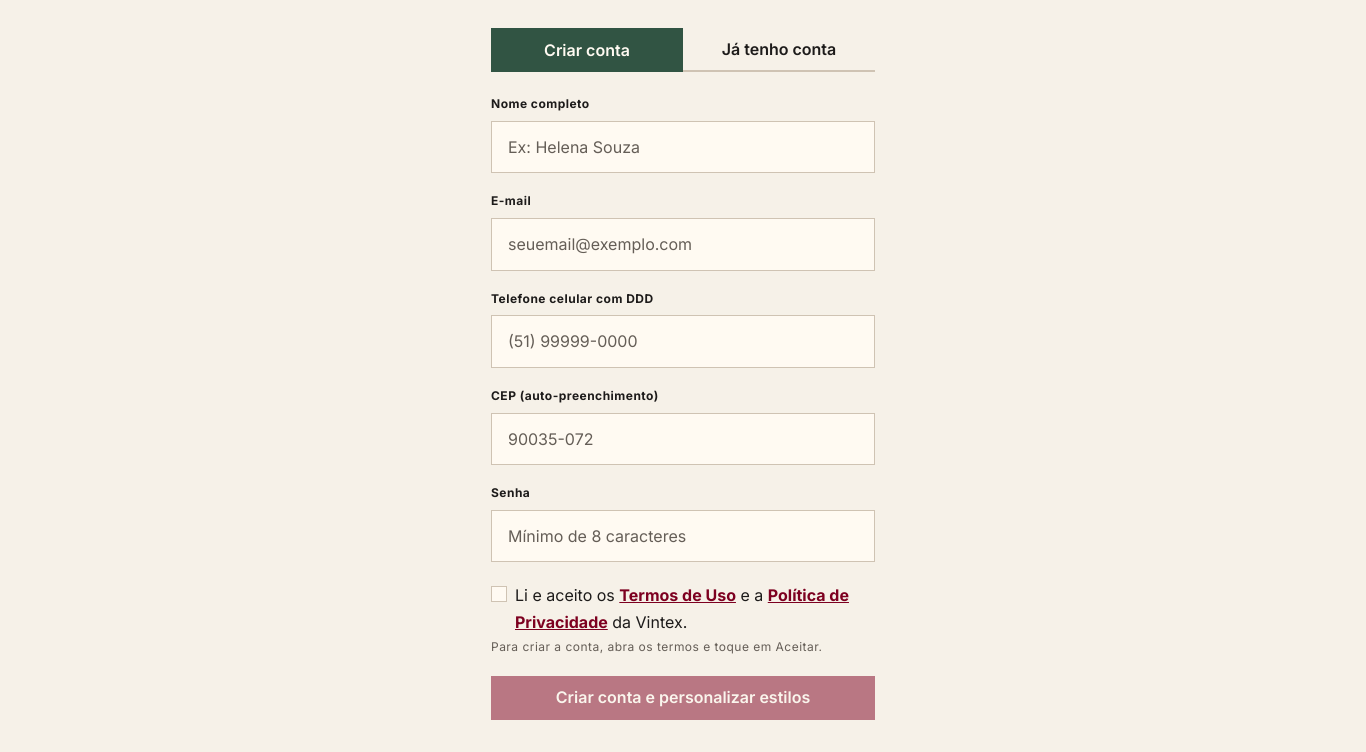
<Register /> › o link "Termos de Uso" abre os termos versionados e provisórios
(page scrolled)
Click the link "Termos de Uso" at (678, 595), box top-left (619, 585), bottom-right (736, 605)
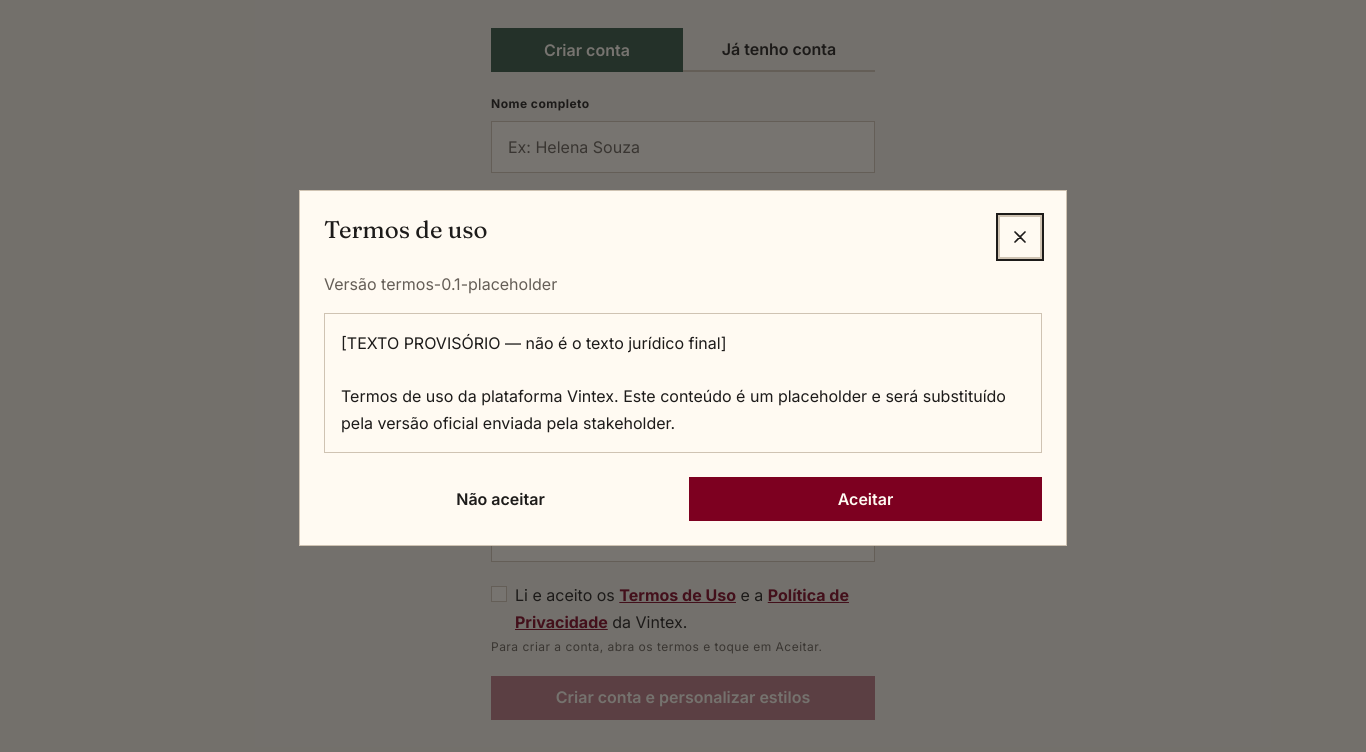
Expected: the dialog "Termos de uso" is shown, top-left (299, 190), bottom-right (1067, 546)
Expected: the text "Versão termos-0.1-placeholder" is shown, top-left (324, 274), bottom-right (557, 294)
Expected: the text "TEXTO PROVISÓRIO" is shown, top-left (341, 333), bottom-right (1006, 433)
